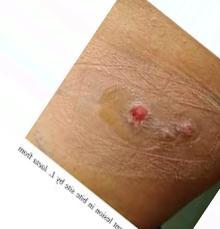Spider: (91, 79, 206, 171)
